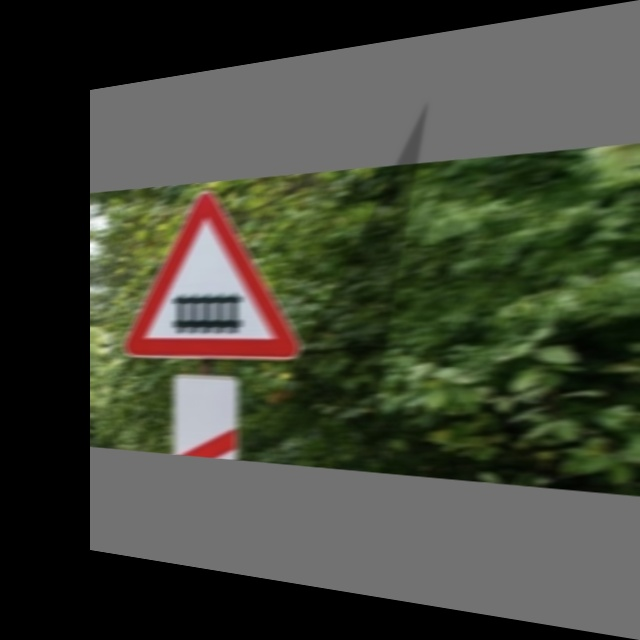Guarded_Level_Crossing: (126, 190, 294, 357)
